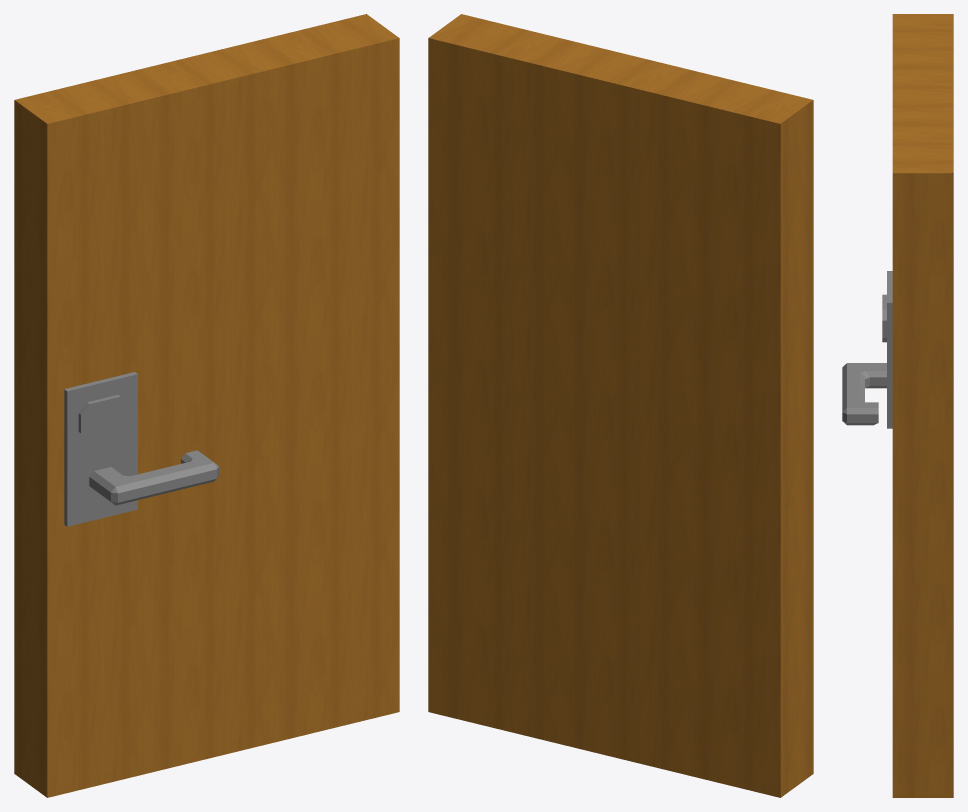
File: model_door 1.fbx
3 views of the same model, side by side, from view 1: azimuth 30°, elevation 25°; view 2: azimuth 150°, elevation 25°; view 3: azimuth 270°, elevation 25° (orthographic). The views are drawn at different scales.
Parts seen in each view (by area): view 1: SM_Door; view 2: SM_Door; view 3: SM_Door.
Part boxes in pixels (x1,y1,x2,y2): SM_Door: (14, 14, 399, 797); SM_Door: (428, 14, 813, 797); SM_Door: (842, 14, 953, 797).
Size of the model in its own units: 3.81 by 6.97 by 1.13.
1 material, 1 textured.
